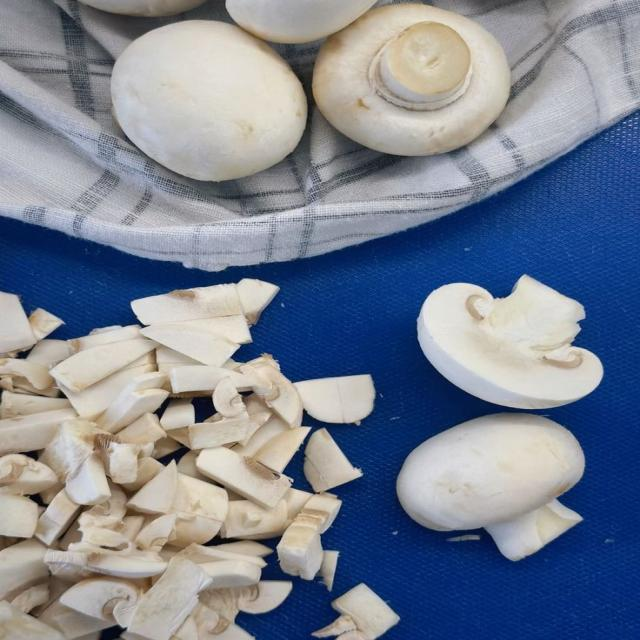champignon mushrooms: (112, 21, 306, 181), (314, 4, 510, 155), (397, 414, 584, 560), (418, 276, 602, 409), (129, 556, 211, 639), (227, 0, 375, 43), (196, 446, 291, 508), (50, 338, 157, 391), (60, 364, 155, 419), (313, 584, 399, 639), (131, 284, 243, 325), (241, 354, 302, 427), (40, 419, 106, 482), (142, 324, 239, 365), (294, 375, 374, 424), (60, 576, 141, 623), (304, 429, 362, 491), (0, 408, 76, 455), (78, 488, 132, 550), (97, 388, 168, 433), (38, 598, 113, 638), (152, 314, 250, 344), (219, 499, 290, 540), (0, 539, 48, 599), (171, 472, 227, 523), (277, 522, 323, 579), (254, 427, 310, 473), (128, 461, 177, 513), (35, 489, 81, 544), (0, 600, 63, 639), (200, 585, 257, 628), (79, 485, 125, 536), (0, 454, 57, 495), (0, 292, 37, 354), (233, 417, 289, 456), (170, 366, 250, 393), (178, 543, 265, 566), (81, 0, 206, 16), (69, 325, 140, 353), (0, 391, 72, 418), (85, 555, 167, 578), (237, 279, 278, 325), (188, 418, 248, 449), (238, 581, 292, 614), (193, 592, 230, 639), (199, 560, 261, 588), (298, 494, 341, 533), (0, 493, 37, 538), (0, 358, 52, 389), (174, 514, 221, 547), (117, 412, 165, 444), (135, 515, 175, 551), (25, 339, 69, 369), (156, 346, 201, 373), (44, 549, 90, 574), (10, 583, 48, 613), (160, 399, 195, 431), (29, 309, 63, 341), (208, 540, 272, 556), (177, 451, 210, 480), (283, 488, 313, 519), (320, 551, 339, 592), (57, 520, 81, 549), (153, 436, 181, 459), (120, 515, 144, 541), (243, 393, 270, 416), (214, 624, 254, 639), (0, 376, 12, 391)
